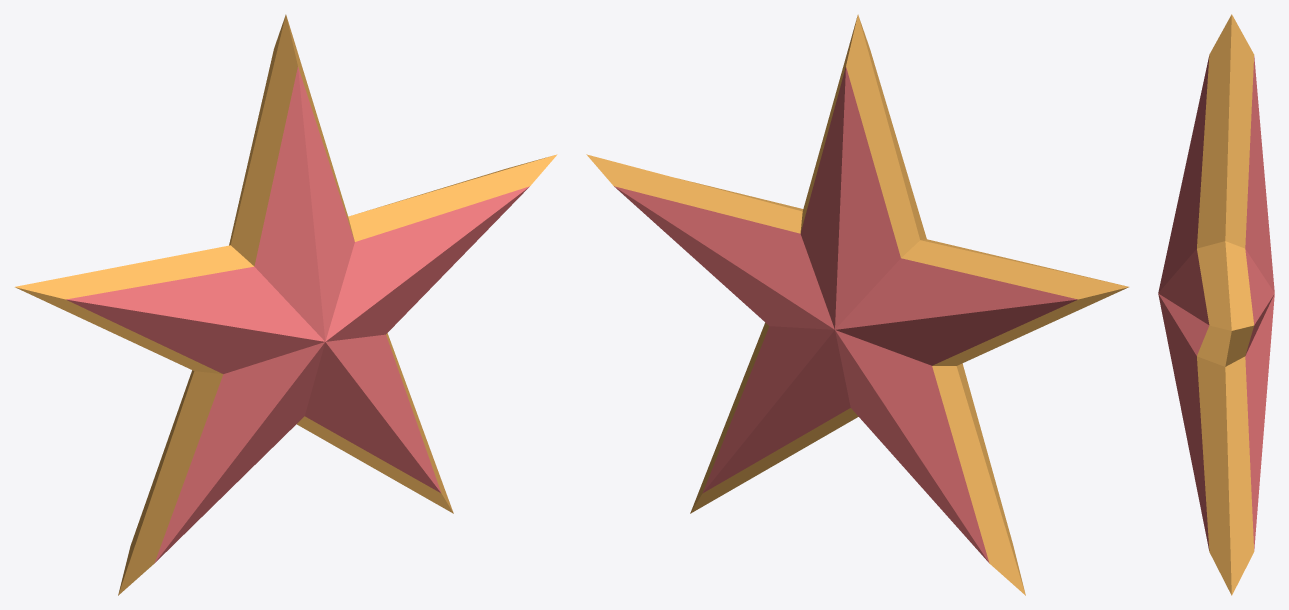
Rendered from Holywood_Star.fbx.
The picture shows the model from 3 angles, left to right: view 1: azimuth 30°, elevation 25°; view 2: azimuth 150°, elevation 25°; view 3: azimuth 270°, elevation 25°; orthographic projection. The views are drawn at different scales.
Visible parts, largest first — view 1: Star; view 2: Star; view 3: Star.
Boxes of the visible parts, left/top/right/bottom form: Star: left=15, top=14, right=557, bottom=595; Star: left=586, top=14, right=1128, bottom=595; Star: left=1158, top=14, right=1274, bottom=595.
Size of the model in its own units: 1748 by 1663 by 348.
